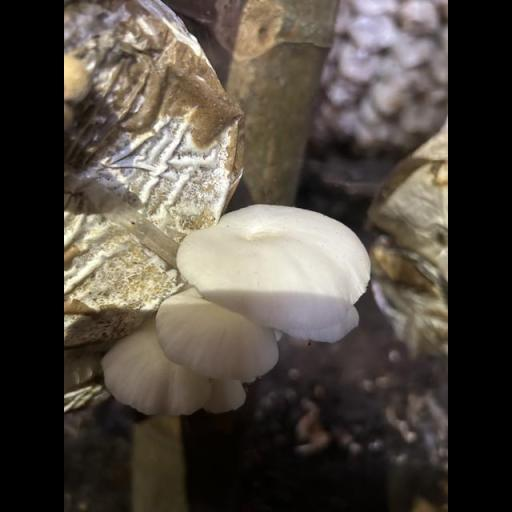White Oyster Mushroom: (101, 203, 370, 417)
